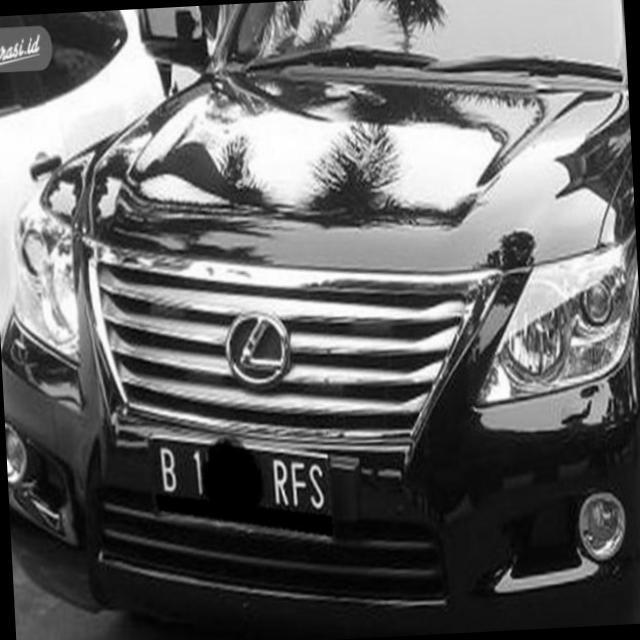1: (187, 444, 207, 498)
B: (154, 443, 181, 498)
F: (288, 460, 308, 512)
R: (271, 460, 288, 514)
S: (309, 455, 330, 516)
